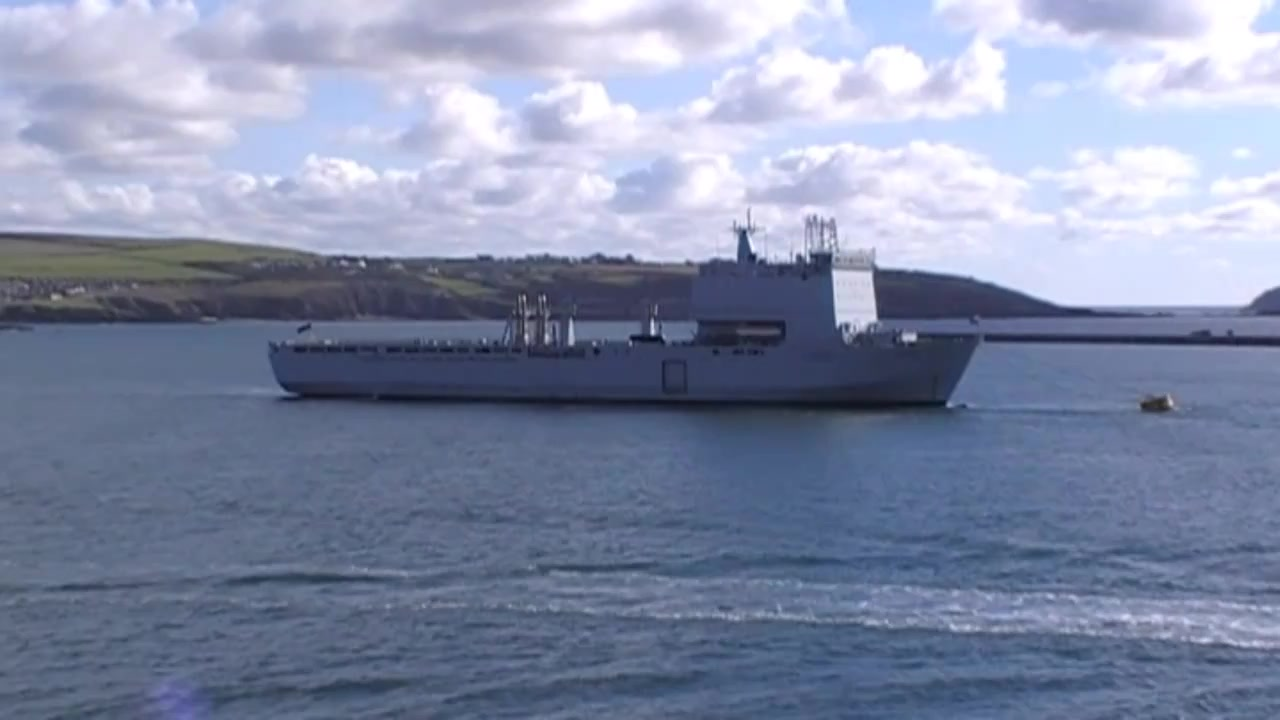boat: (266, 212, 989, 414)
